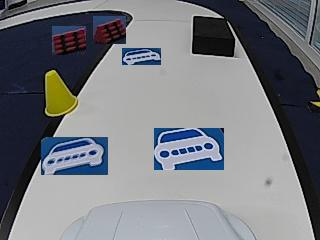block: (192, 16, 234, 56)
cone: (44, 71, 78, 116)
